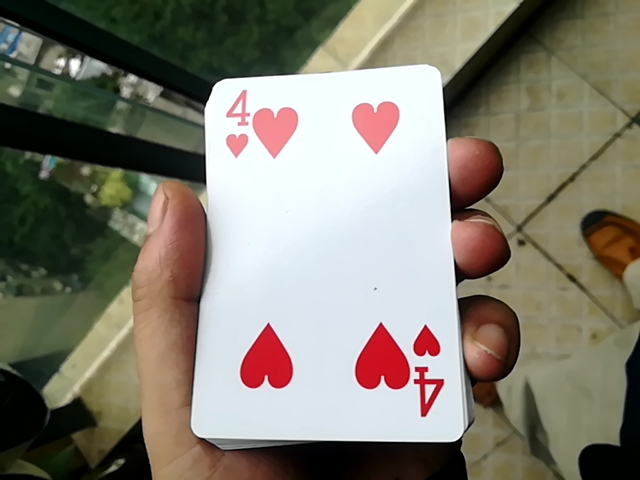hx 4: (177, 59, 465, 438)
